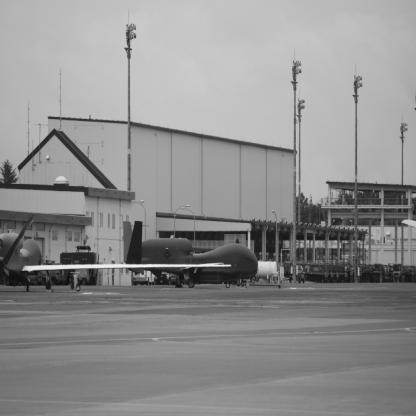RQ4: (2, 213, 234, 293), (124, 222, 259, 290)
